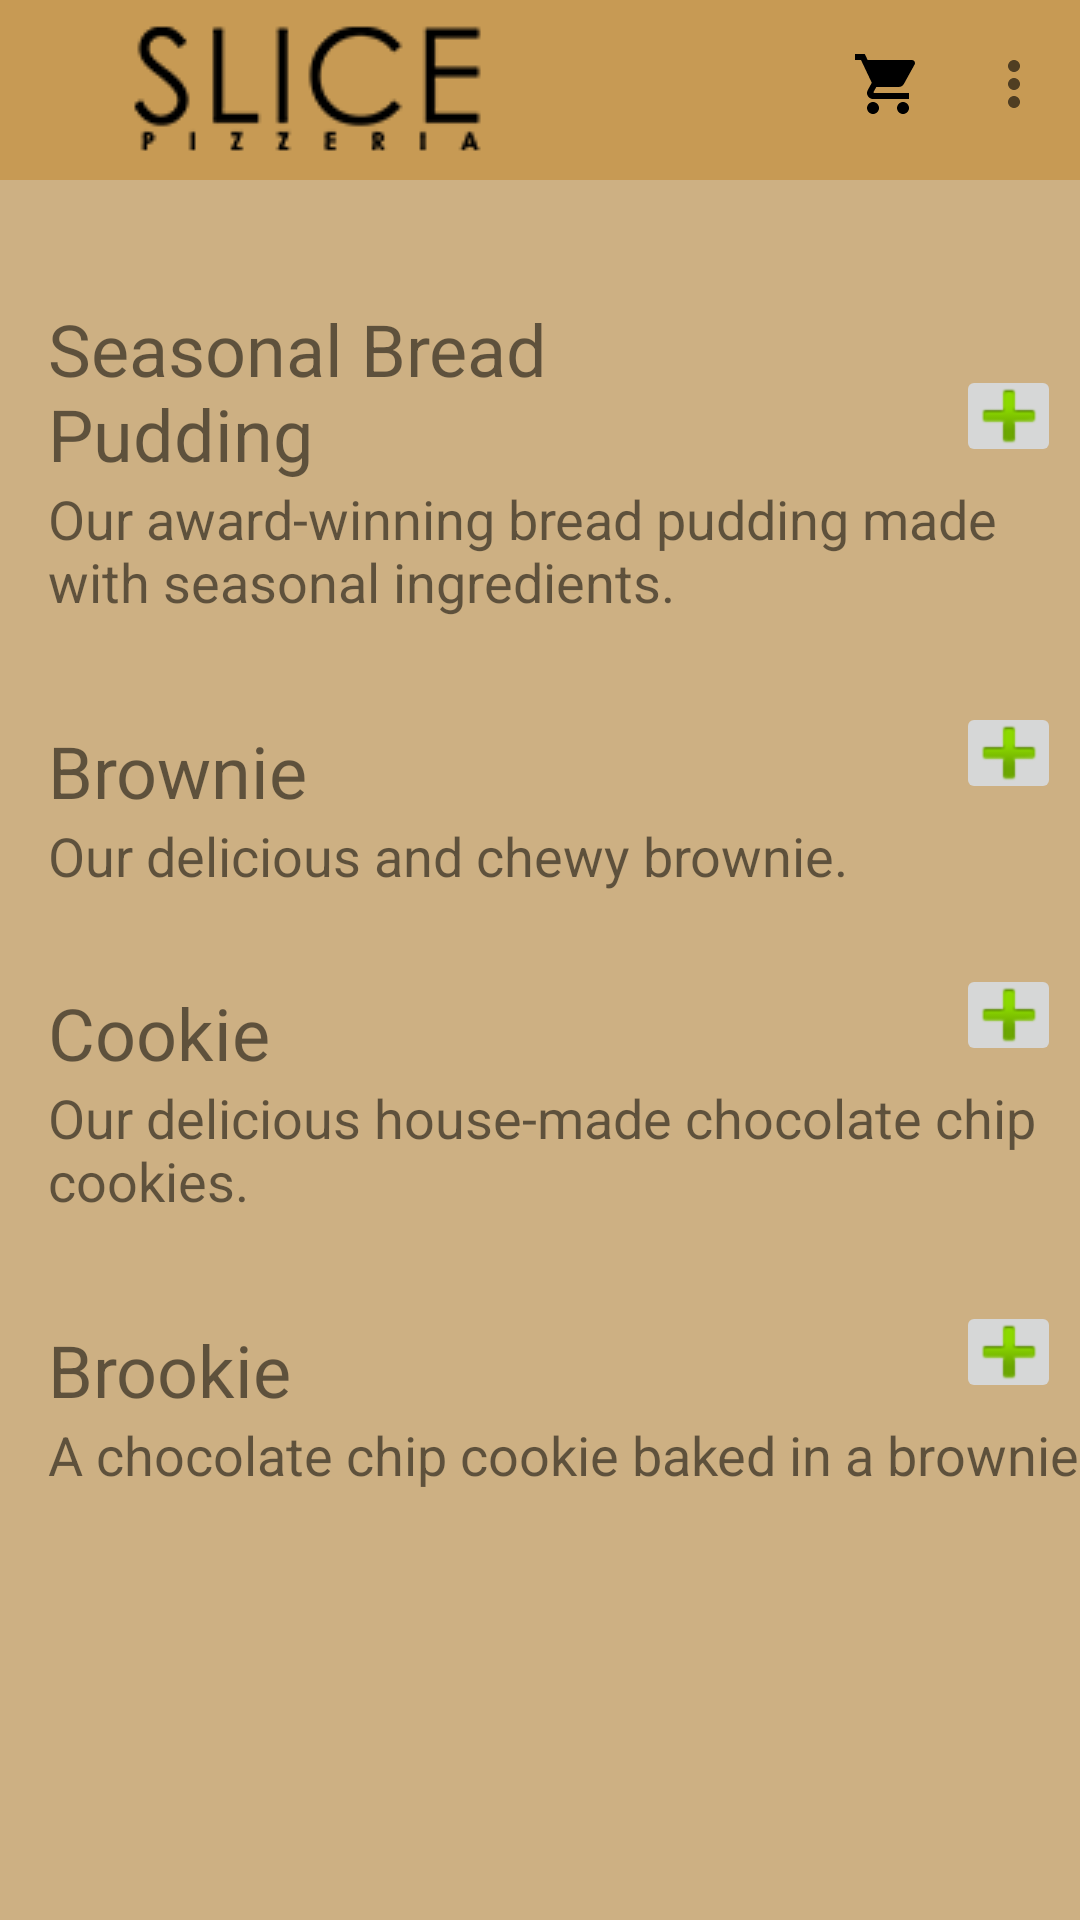

Icon click points for this 1080 x 1920 phone screenshot, format (x,y):
add: (1008,416), (1008,753), (1008,1015), (1008,1352)
